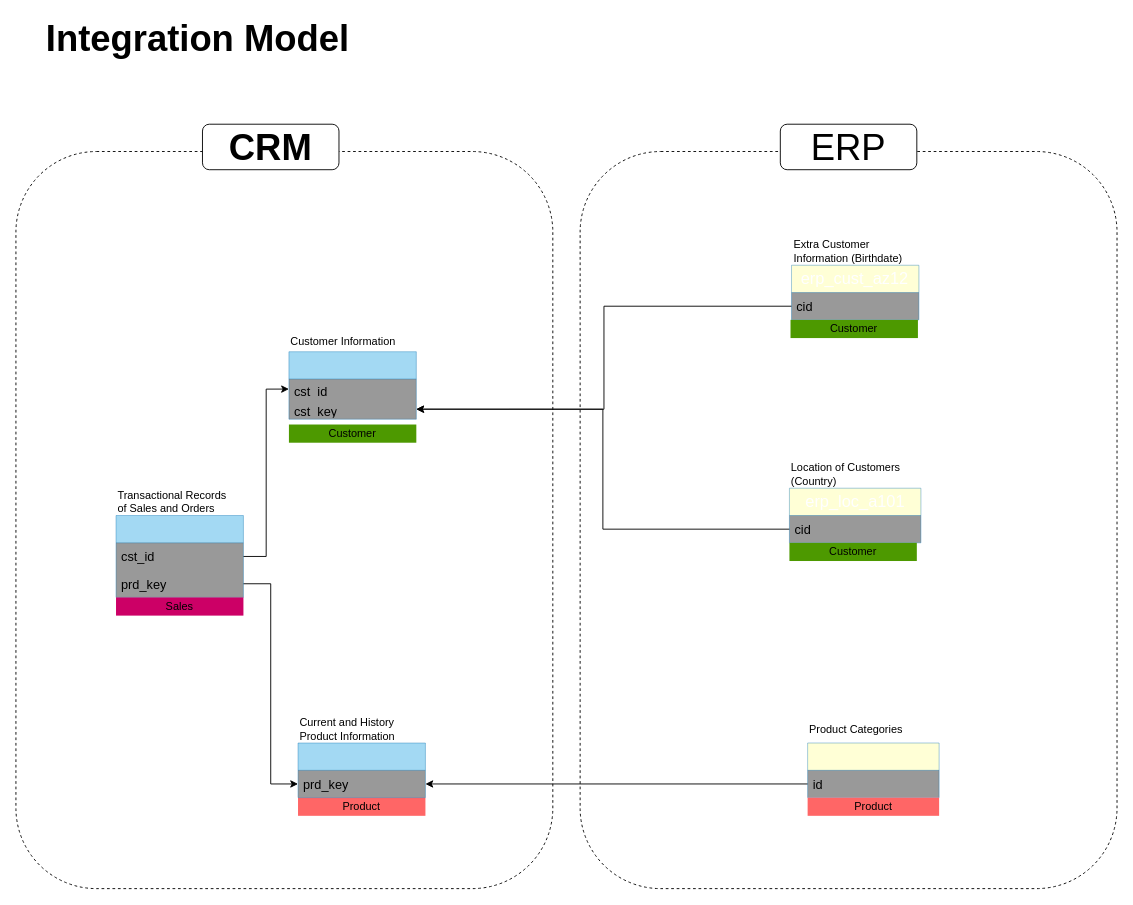
This 1133x905 diagram has some shape labels left out. Here are the shapes that lost their labels. From the top down, the box of each, then its label:
(288, 351, 416, 419): crm_cust_info
(115, 515, 243, 597): crm_sales_details
(297, 742, 425, 798): crm_prd_info
(807, 742, 939, 798): erp_px_cat_g1v2
